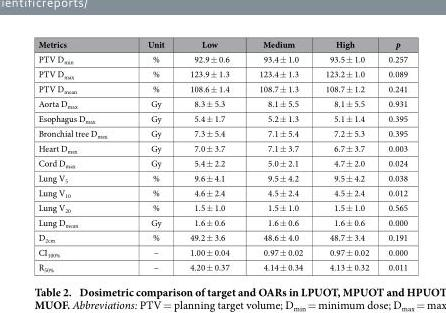table: (37, 37, 407, 273)
table column: (37, 37, 126, 273), (243, 37, 313, 273), (176, 37, 243, 273), (313, 37, 378, 273), (126, 37, 176, 273), (378, 37, 407, 273)
table column header: (37, 37, 407, 51)
table row: (37, 51, 407, 66), (37, 66, 407, 81), (37, 81, 407, 96), (37, 96, 407, 111), (37, 125, 407, 140), (37, 140, 407, 155), (37, 155, 407, 170), (37, 170, 407, 185), (37, 185, 407, 200), (37, 200, 407, 215), (37, 229, 407, 244), (37, 244, 407, 259), (37, 37, 407, 51), (37, 111, 407, 125), (37, 215, 407, 229), (37, 259, 407, 273)
